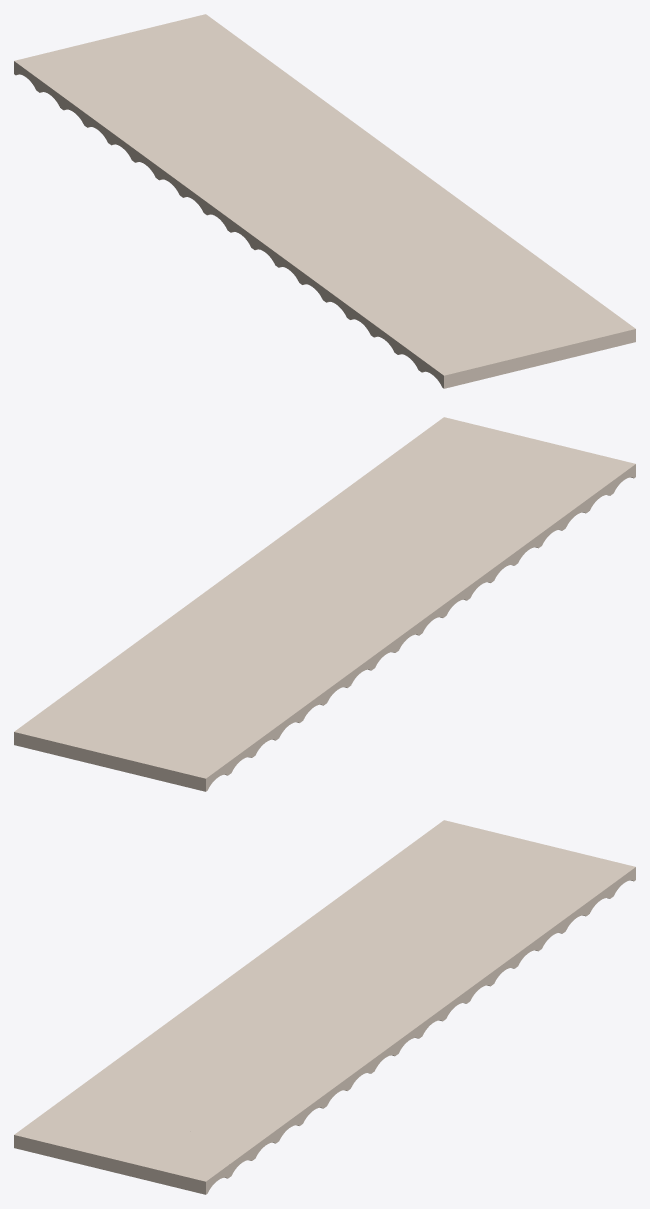
Rendered from Cielorraso.fbx.
3 renders of one model, top to bottom at view 1: azimuth 30°, elevation 25°; view 2: azimuth 150°, elevation 25°; view 3: azimuth 330°, elevation 25°, orthographic.
Parts seen in each view (by area): view 1: Cube.039; view 2: Cube.039; view 3: Cube.039.
Part boxes in pixels (x1,y1,x2,y2): Cube.039: (14,14,635,388); Cube.039: (14,417,635,791); Cube.039: (14,820,635,1194).
Size of the model in its own units: 1220 by 80 by 4735.
